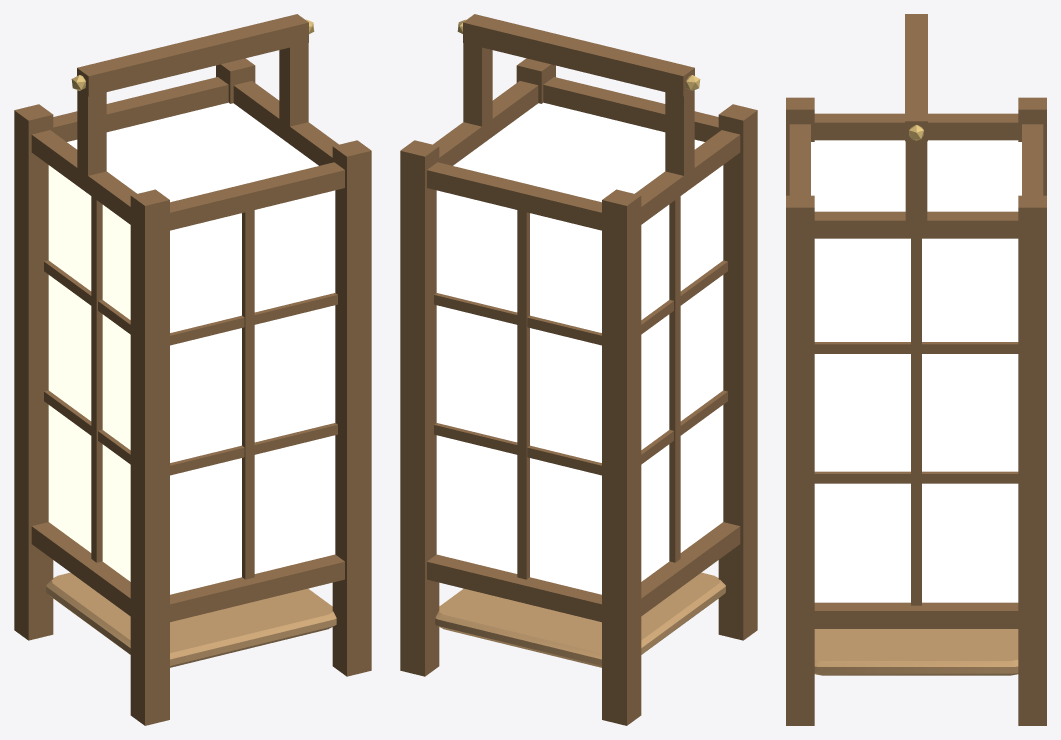
Rendered from furn_andon.glb.
3 views of the same model, side by side, from view 1: azimuth 30°, elevation 25°; view 2: azimuth 150°, elevation 25°; view 3: azimuth 270°, elevation 25° (orthographic).
Parts seen in each view (by area): view 1: furn_andon_body; view 2: furn_andon_body; view 3: furn_andon_body.
Boxes of the visible parts, x1=… form: furn_andon_body: x1=14, y1=14, x2=371, y2=725; furn_andon_body: x1=400, y1=14, x2=757, y2=725; furn_andon_body: x1=786, y1=14, x2=1046, y2=725.
Size of the model in its own units: 0.3099 by 0.745 by 0.292.
